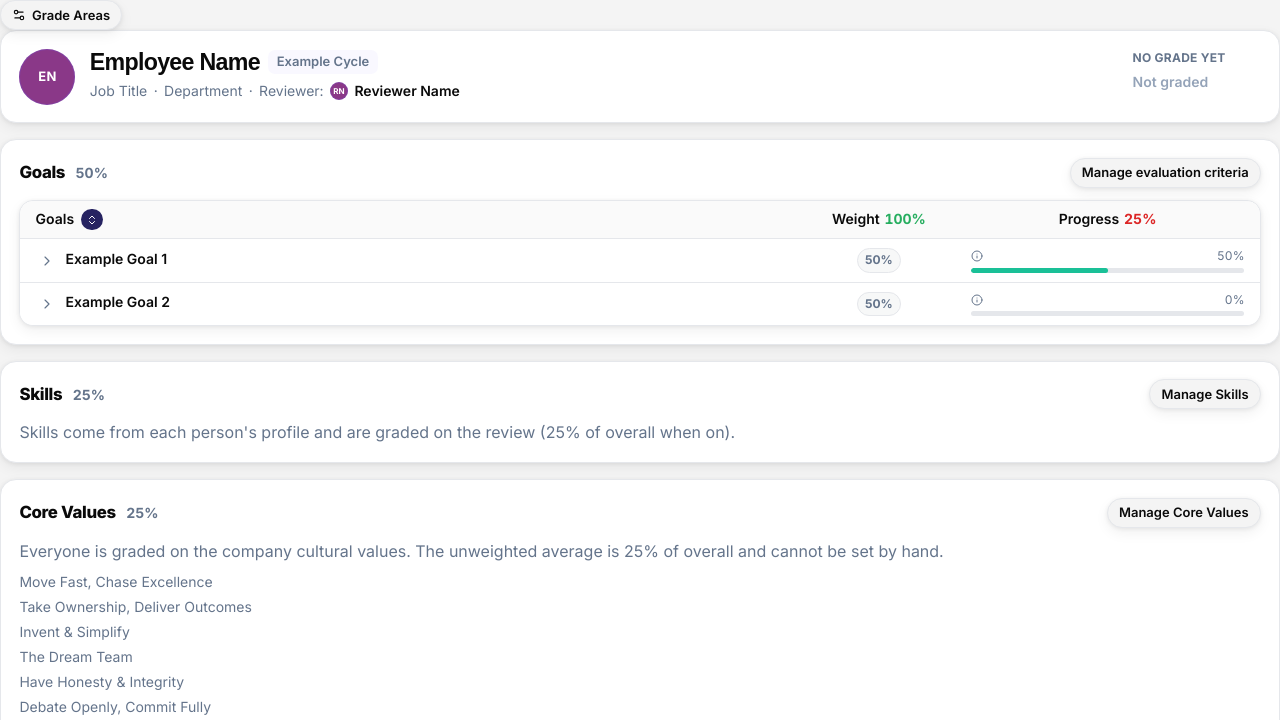
Test: ScorecardFormEditor › opens grade areas from Manage on a section
What coordinates should you click on to do the following:
click the button "Manage evaluation criteria"
I would click on:
 (1165, 173)
Its box is left=1070, top=158, right=1261, bottom=188.
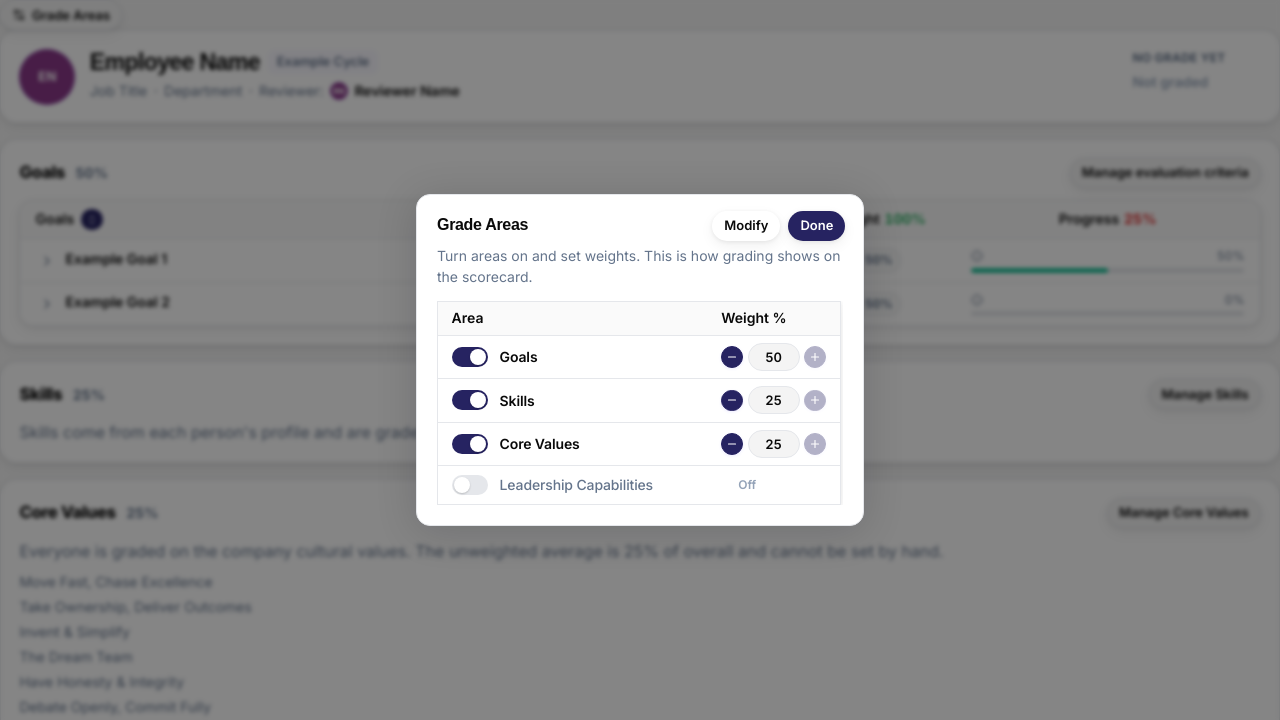
Check: the heading "Grade Areas" is shown, box left=437, top=216, right=528, bottom=233
Check: the table named "Grade areas" is shown, box left=438, top=302, right=840, bottom=504
